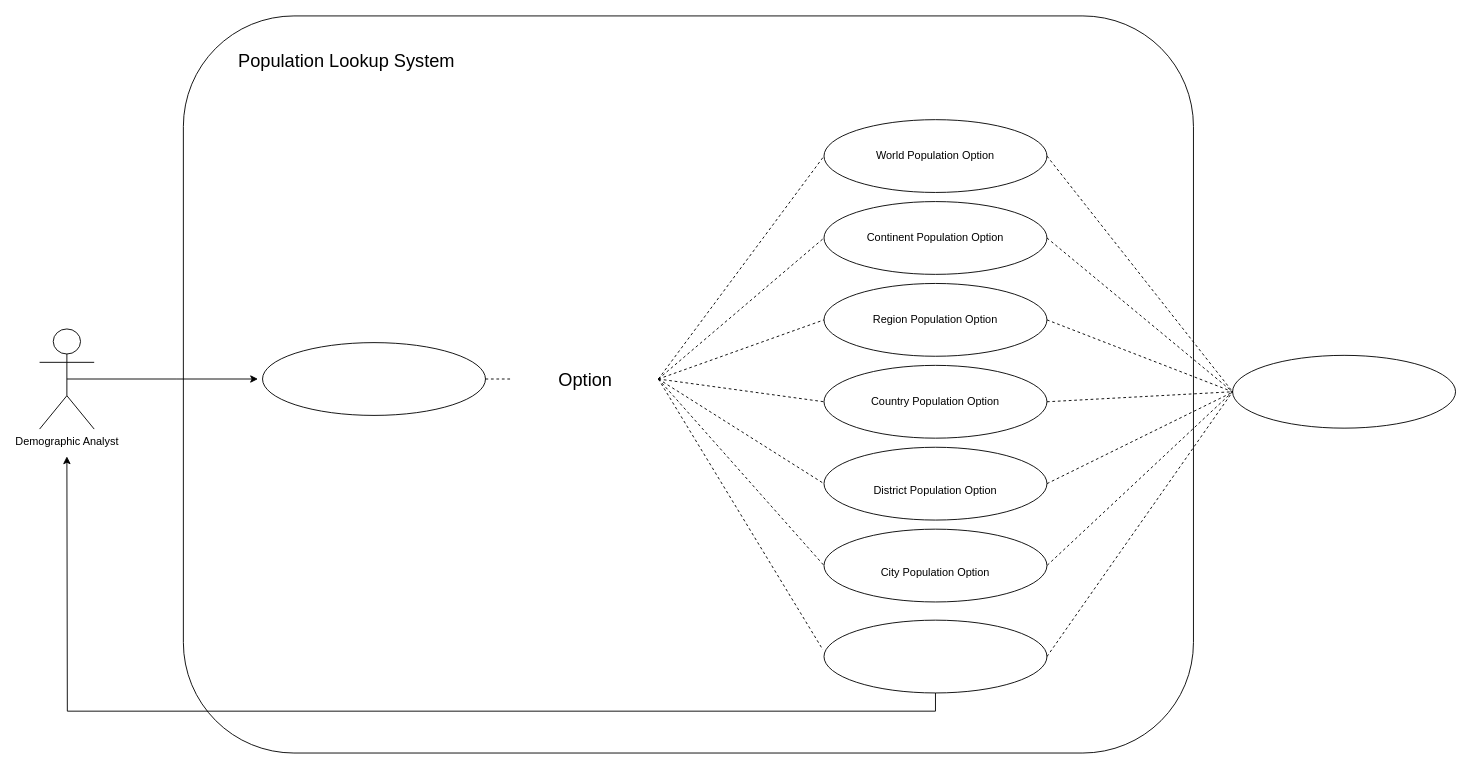
Some shapes in this 1471 by 769 pixel diagram are drawn without their labels. The shapes that lost their labels are listed below. From the top down, each one's box as (x1, y1, x2, y2) in pixels, then its label:
(262, 342, 485, 415): Option Prompt
(1232, 354, 1456, 428): Population Results
(823, 619, 1047, 693): Exit Program
